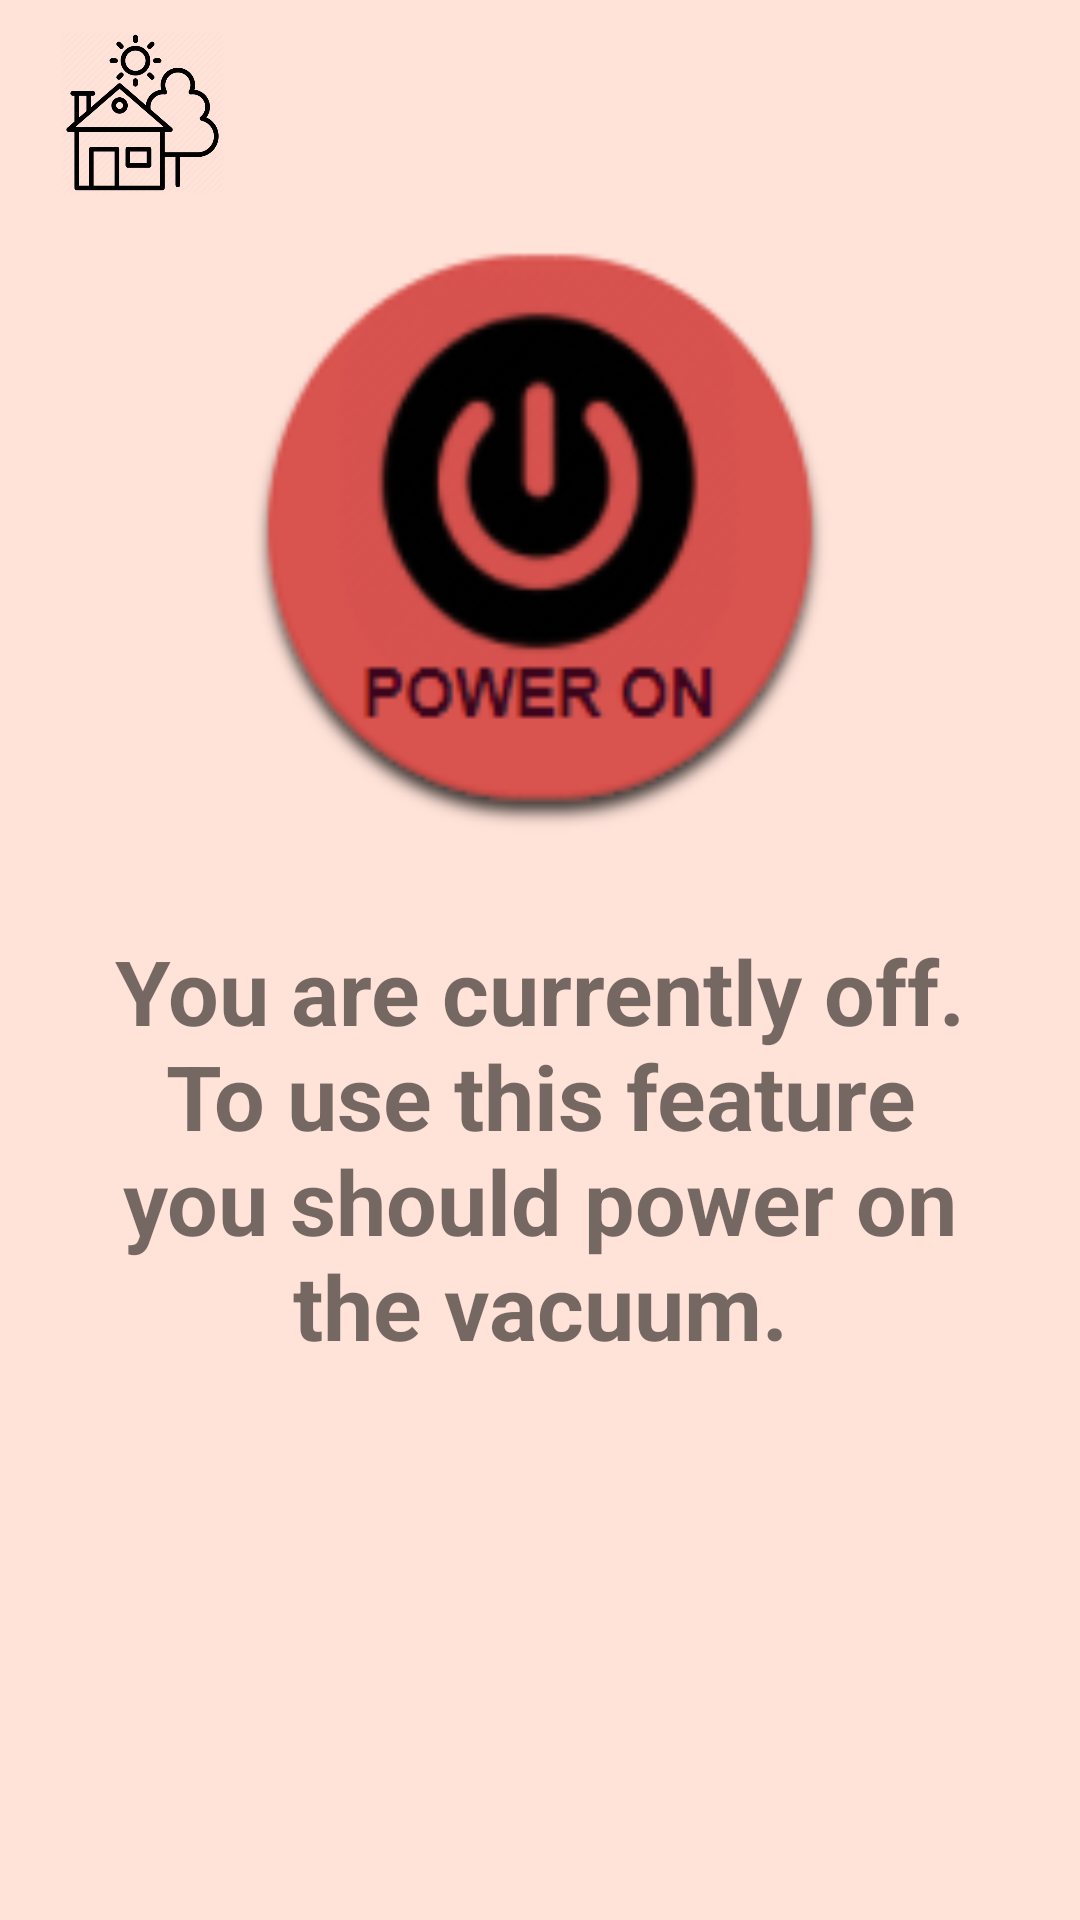

Where icons sit on this 1080px×1920px app screen, as (x1, y1, x2, y2):
house: (66, 34, 219, 191)
